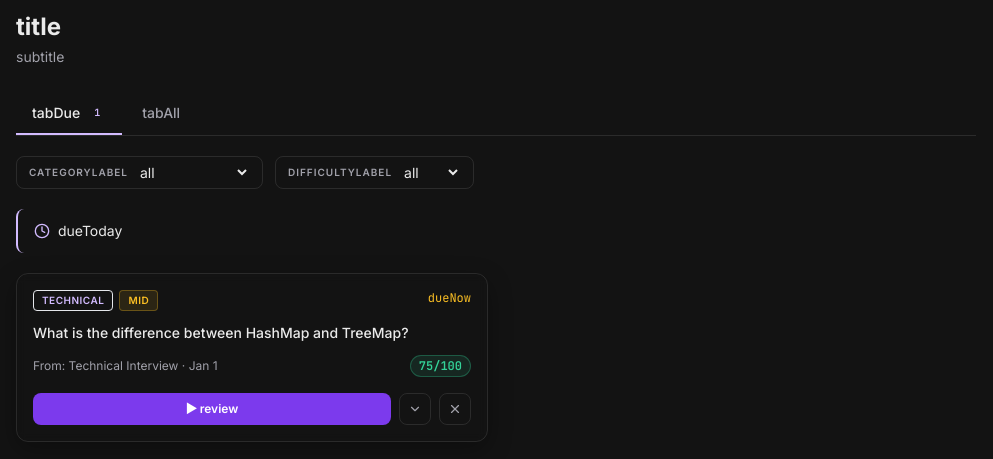
Test case: BookmarksClient — show/hide model answer › shows noModelAnswer placeholder when modelAnswer is null
Step 1. Click the button "tabAll" → x=161, y=113, box x1=126 y1=93 x2=196 y2=133
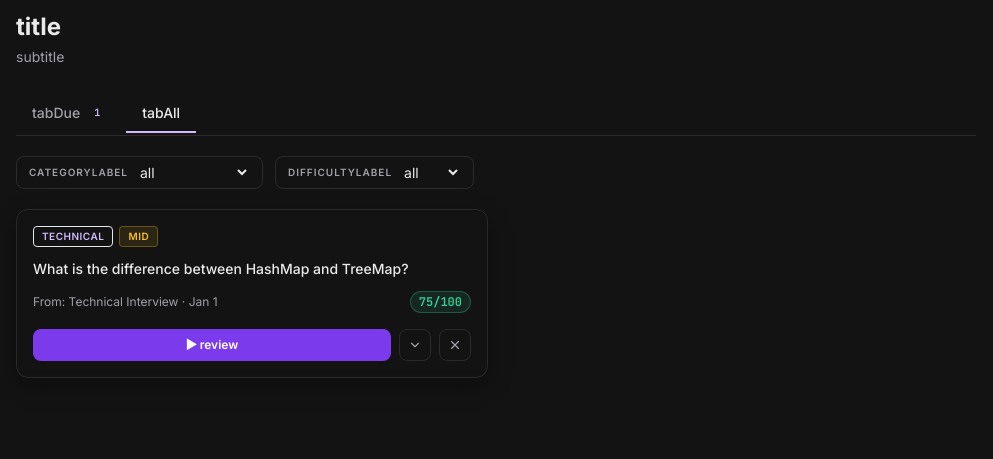
Step 2. Click the button titled "showAnswer" → x=415, y=345, box x1=399 y1=329 x2=431 y2=361
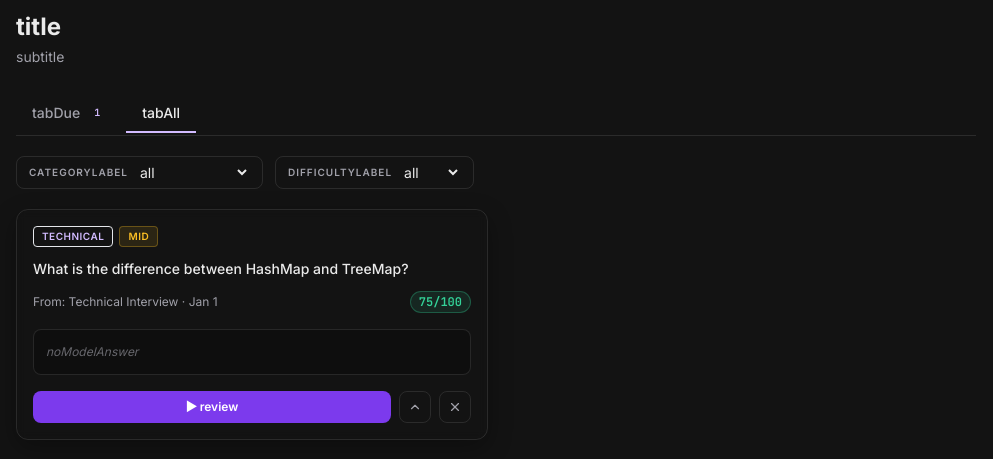
Expected: the text "noModelAnswer" is shown, x1=46 y1=344 x2=138 y2=359
